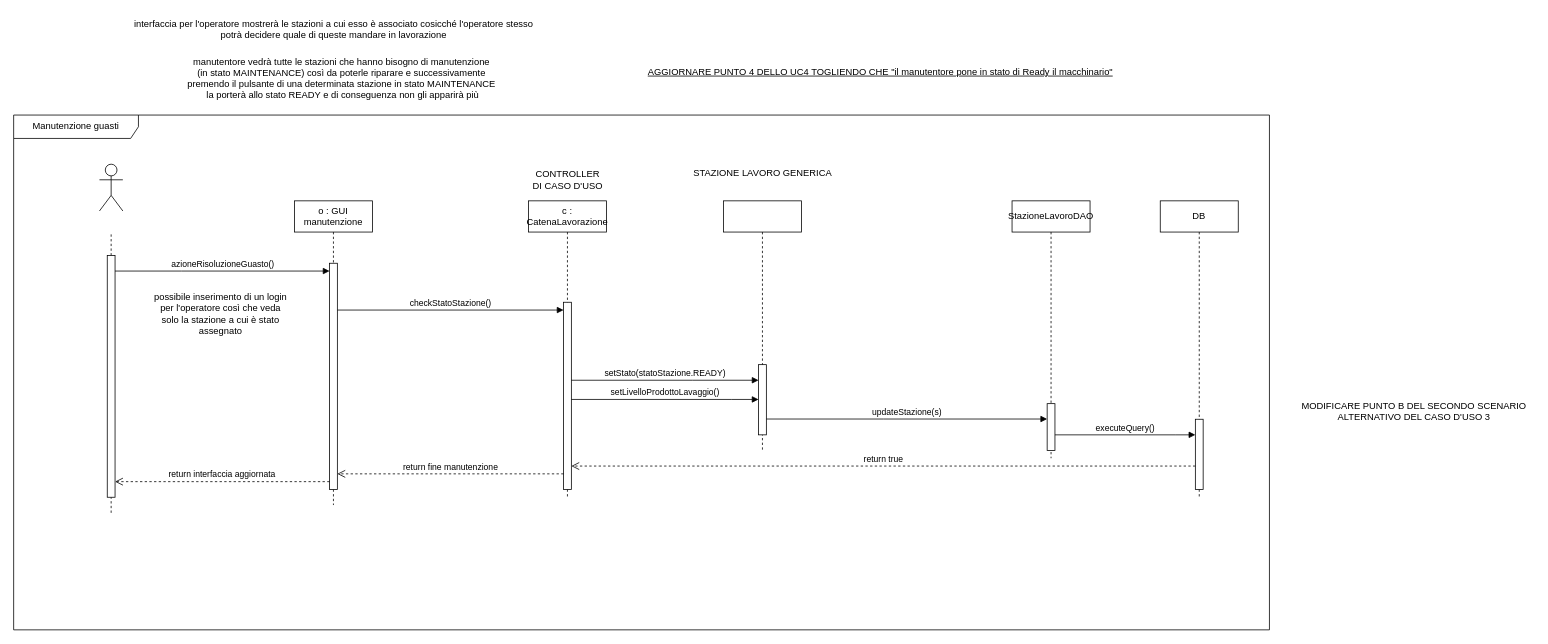
The diagram is 1548 pixels wide and 644 high, and some of its shapes have lost their labels. Each missing label, with the box of its shape:
Operatore (Manutentore): (99, 163, 123, 211)
s : StazioneLavoro: (723, 200, 801, 450)
